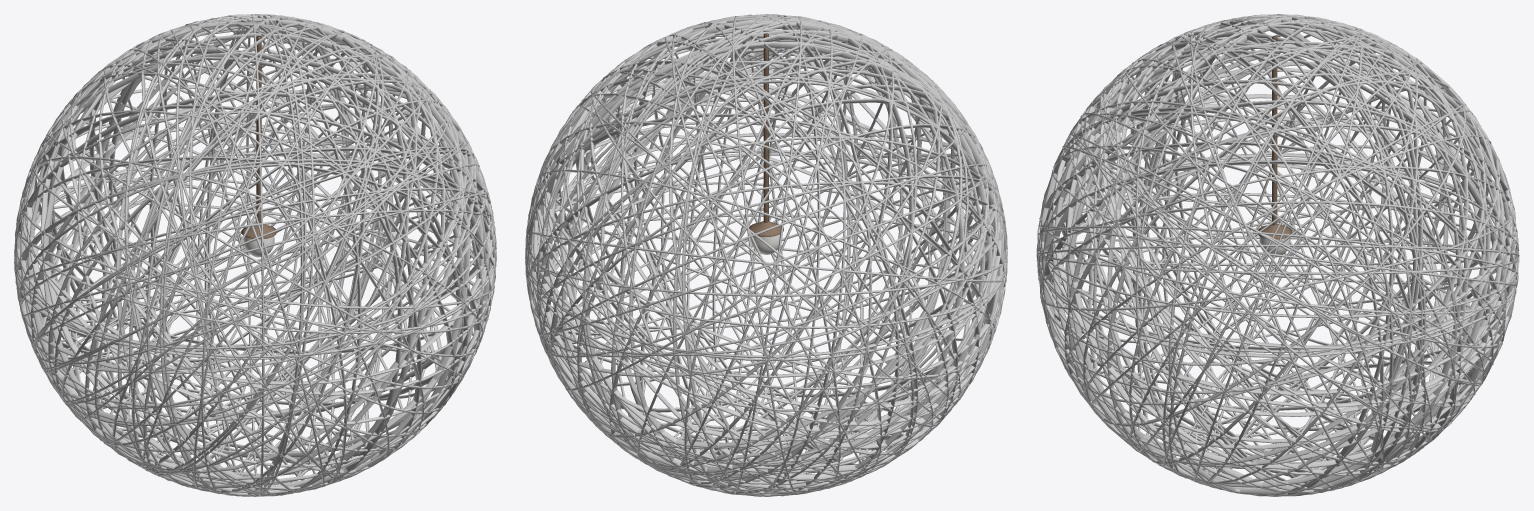
The model's file is Twine Light.fbx.
3 renders of one model, left to right at view 1: azimuth 30°, elevation 25°; view 2: azimuth 150°, elevation 25°; view 3: azimuth 270°, elevation 25°, orthographic.
Parts seen in each view (by area): view 1: group12_pasted__group4_pasted__pPipe3, polySurface1; view 2: group12_pasted__group4_pasted__pPipe3, polySurface1; view 3: group12_pasted__group4_pasted__pPipe3, polySurface1.
Part boxes in pixels (bbox=[...]): group12_pasted__group4_pasted__pPipe3: bbox=[14, 14, 496, 496]; polySurface1: bbox=[241, 36, 276, 239]; group12_pasted__group4_pasted__pPipe3: bbox=[525, 14, 1007, 496]; polySurface1: bbox=[749, 33, 783, 236]; group12_pasted__group4_pasted__pPipe3: bbox=[1036, 14, 1519, 496]; polySurface1: bbox=[1258, 36, 1292, 239].
Bounding box in the file's own units: 34.95 × 34.96 × 34.95.
